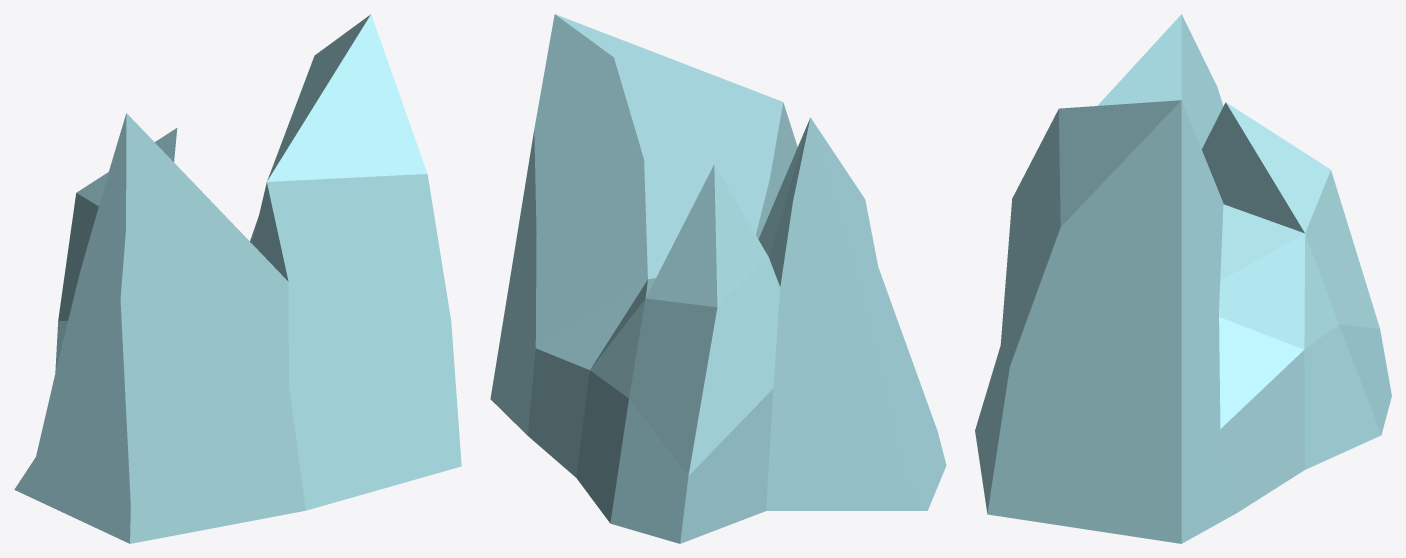
The model's file is gelo4.fbx.
The picture shows the model from 3 angles, left to right: view 1: azimuth 30°, elevation 25°; view 2: azimuth 150°, elevation 25°; view 3: azimuth 270°, elevation 25°; orthographic projection. The views are drawn at different scales.
Parts seen in each view (by area): view 1: Plane; view 2: Plane; view 3: Plane.
Boxes of the visible parts, left/top/right/bottom form: Plane: left=14, top=14, right=461, bottom=543; Plane: left=490, top=14, right=946, bottom=543; Plane: left=975, top=14, right=1391, bottom=543.
Size of the model in its own units: 680 by 630 by 547.
